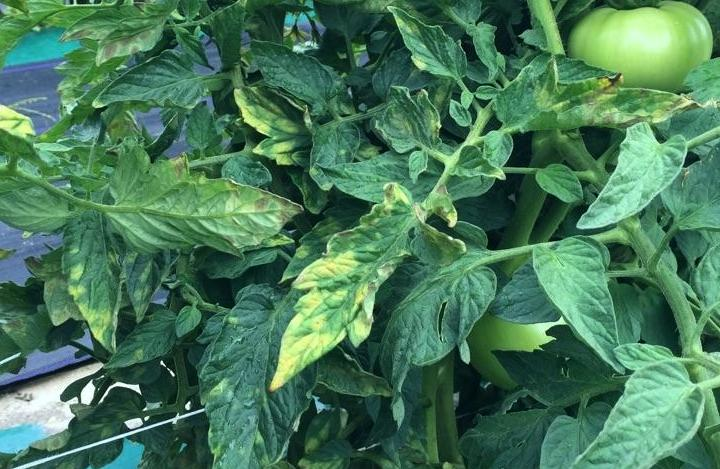Tomato mold leaf: (266, 198, 420, 391), (84, 137, 295, 263), (541, 362, 708, 469), (526, 230, 622, 376), (503, 60, 689, 132), (576, 125, 688, 237), (81, 42, 220, 117), (72, 203, 132, 351), (370, 86, 444, 163), (0, 176, 80, 235)
